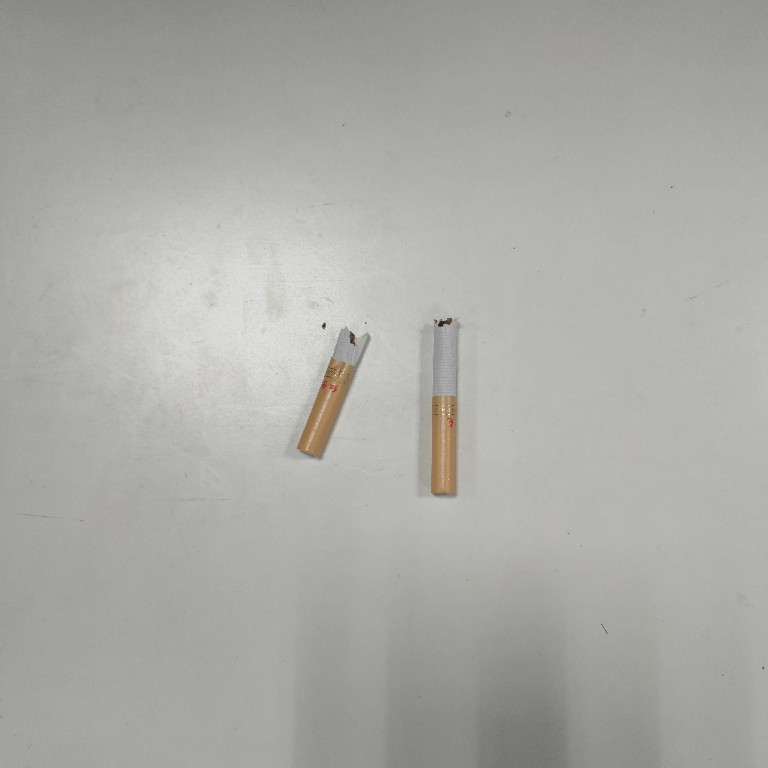cigarette: (292, 326, 374, 461), (427, 316, 464, 499)
